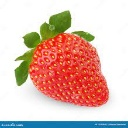strawberry: (18, 21, 110, 107)
